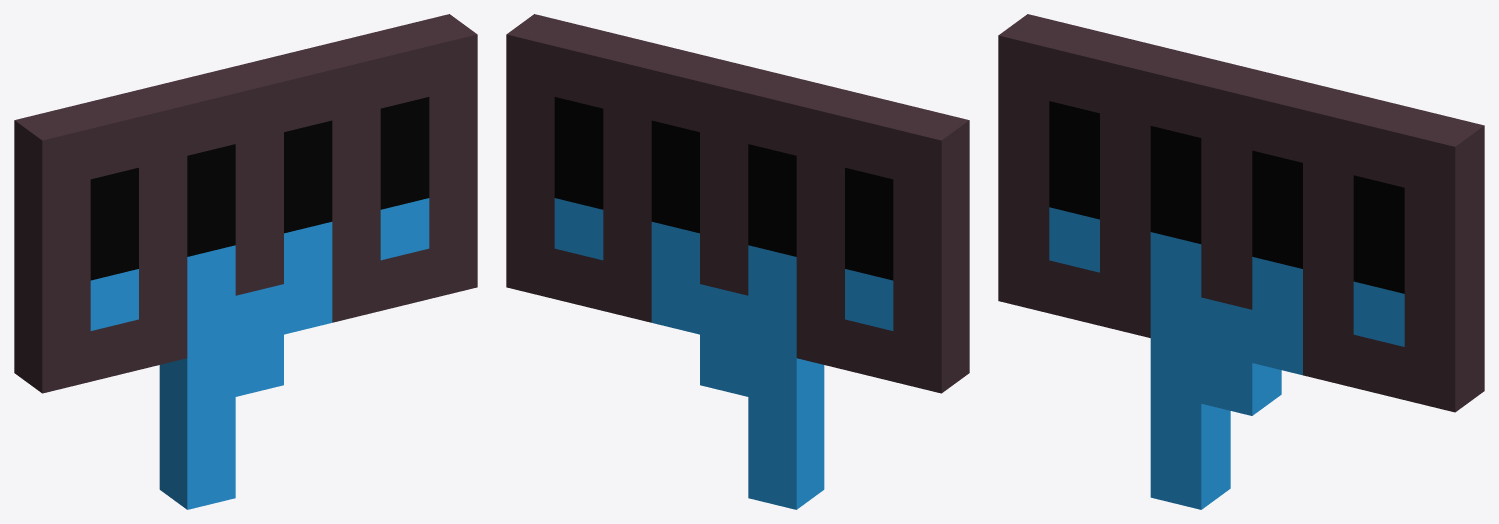
File: wall_grate_b_leaking_water.obj
3 views of the same model, side by side, from view 1: azimuth 30°, elevation 25°; view 2: azimuth 150°, elevation 25°; view 3: azimuth 330°, elevation 25° (orthographic). The views are drawn at different scales.
Bounding box in the file's own units: 0.9 × 0.8 × 0.1.
1 material, 1 textured.
